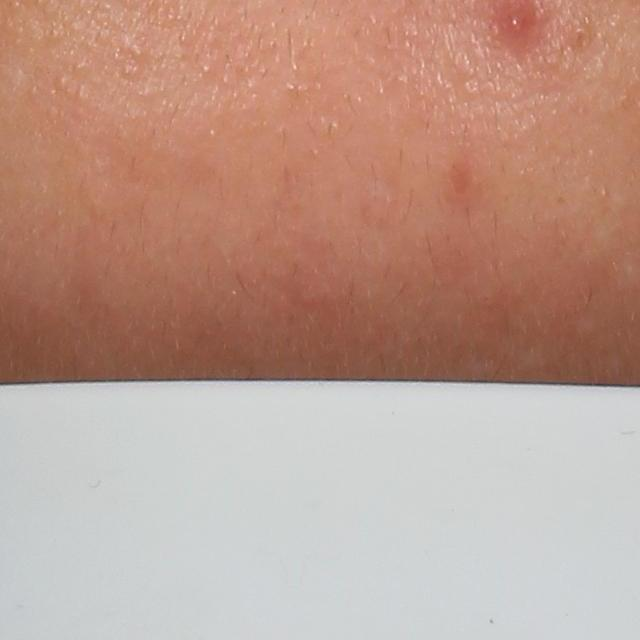papule: (492, 2, 541, 53)
